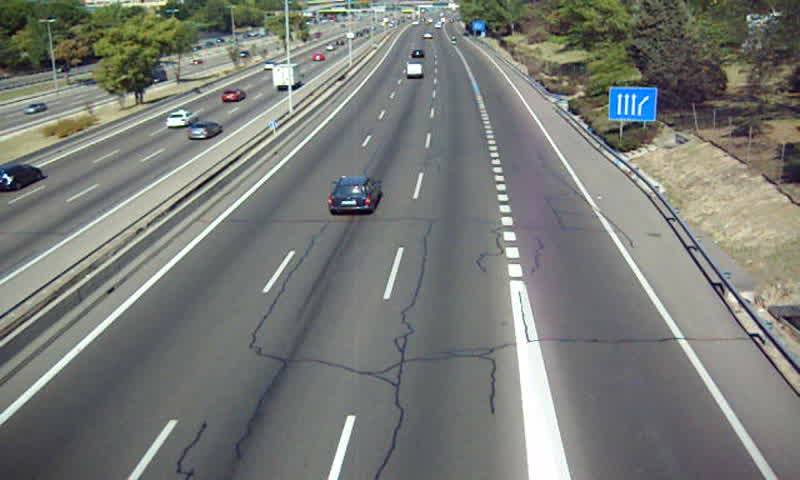car: (327, 178, 380, 213), (411, 47, 428, 58)
van: (406, 63, 423, 78)
